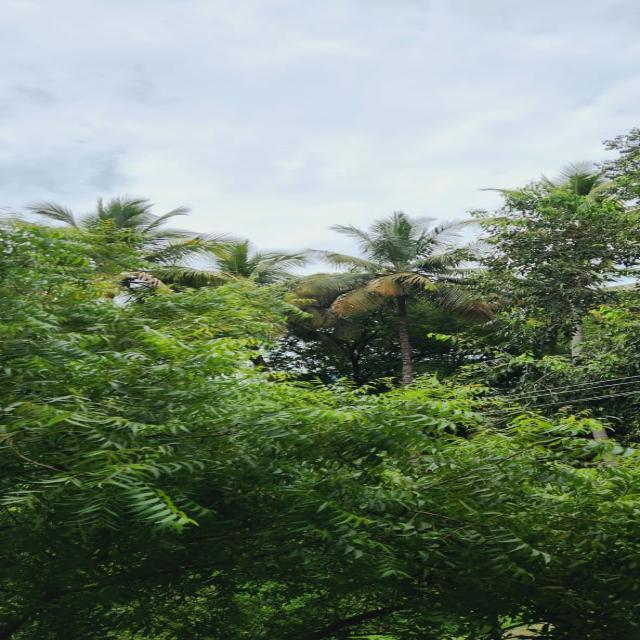Coconut-tree: (321, 206, 452, 328), (34, 187, 193, 227), (187, 239, 294, 289)
